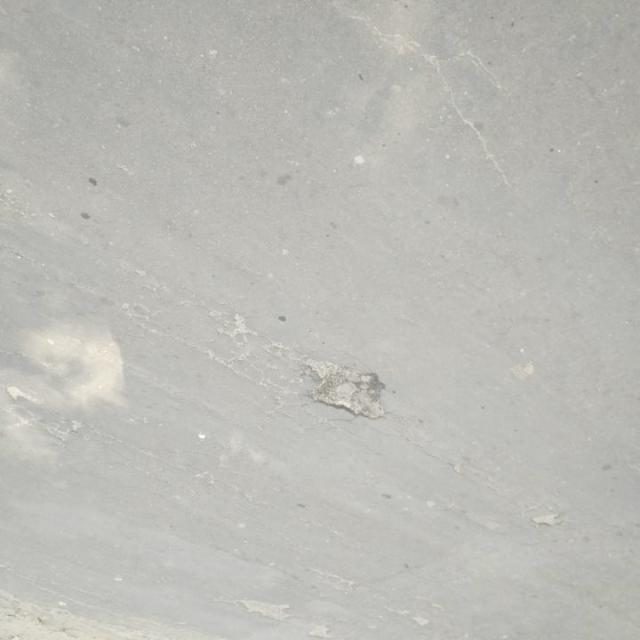pothole: (246, 334, 452, 424)
